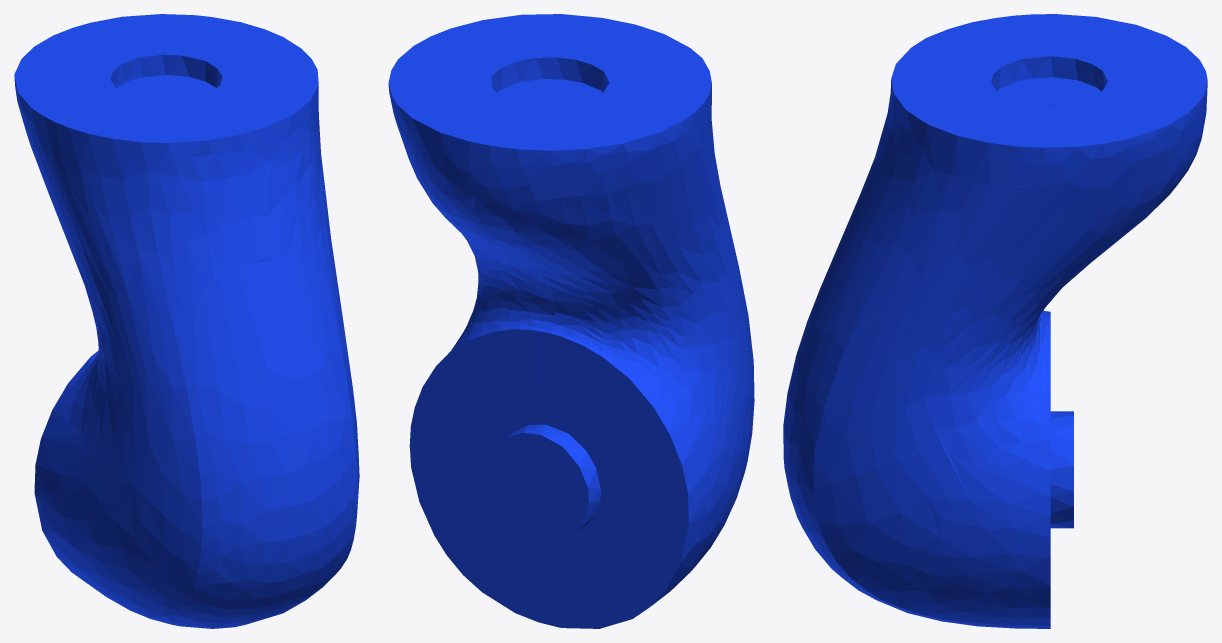
3 renders of one model, left to right at view 1: azimuth 30°, elevation 25°; view 2: azimuth 150°, elevation 25°; view 3: azimuth 270°, elevation 25°, orthographic. The views are drawn at different scales.
Visible parts, largest first — view 1: Link_4; view 2: Link_4; view 3: Link_4.
Boxes of the visible parts, x1,y1,x2,y2 form: Link_4: (14, 14, 359, 628); Link_4: (388, 14, 754, 628); Link_4: (783, 14, 1207, 628).
Size of the model in its own units: 0.1361 by 0.2524 by 0.1826.
1 material, 1 textured.
